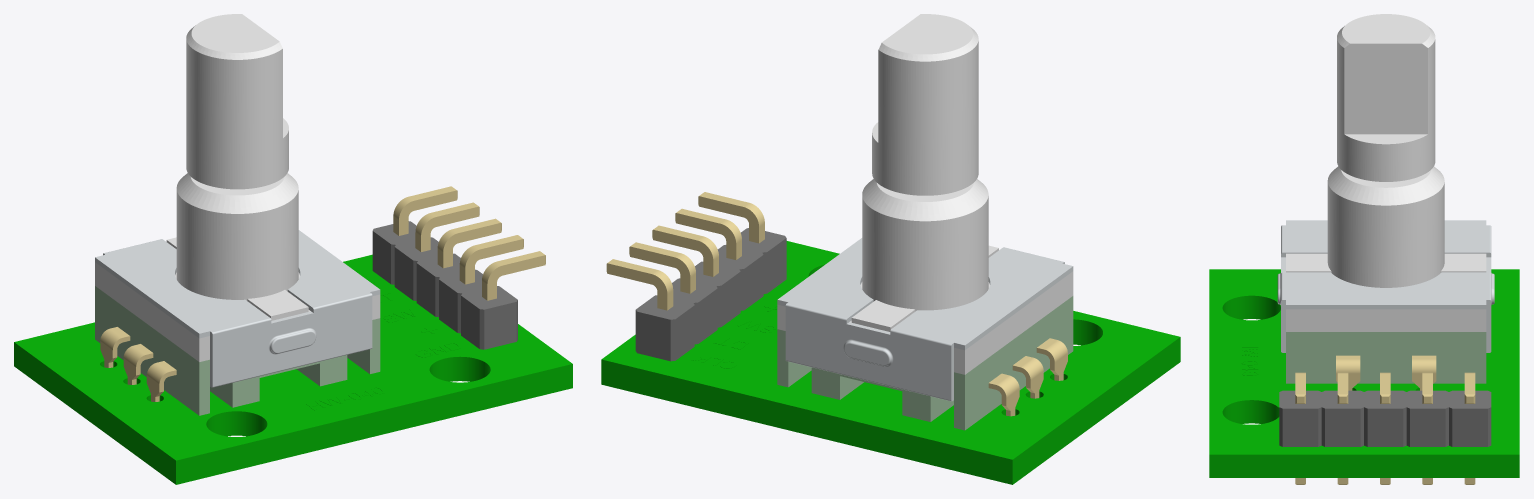
Rendered from rotary_encoder_module.glb.
3 renders of one model, left to right at view 1: azimuth 30°, elevation 25°; view 2: azimuth 150°, elevation 25°; view 3: azimuth 270°, elevation 25°, orthographic. The views are drawn at different scales.
Parts seen in each view (by area): view 1: Node1, Node2, Node3, Node5, Node6, Node4; view 2: Node1, Node2, Node3, Node5, Node6, Node4; view 3: Node2, Node1, Node6, Node3, Node4, Node5.
Boxes of the visible parts, x1,y1,x2,y2 form: Node1: (14, 254, 572, 484); Node2: (95, 14, 380, 361); Node3: (95, 230, 380, 387); Node5: (100, 186, 545, 401); Node6: (372, 221, 517, 349); Node4: (95, 286, 380, 415); Node1: (601, 241, 1180, 484); Node2: (777, 14, 1073, 374); Node3: (777, 238, 1073, 401); Node5: (606, 192, 1067, 416); Node6: (635, 228, 786, 361); Node4: (777, 296, 1073, 430); Node2: (1286, 14, 1486, 331); Node1: (1209, 269, 1519, 477); Node6: (1279, 390, 1491, 446); Node3: (1277, 220, 1494, 352); Node4: (1286, 332, 1486, 383); Node5: (1295, 355, 1475, 484).
Bounding box in the file's own units: 27.56 × 23.4 × 18.6.
